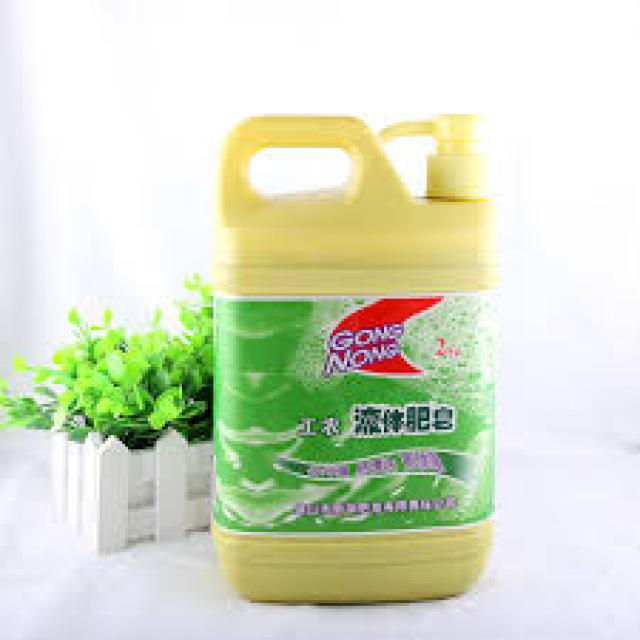liquid soap: (216, 108, 503, 608)
